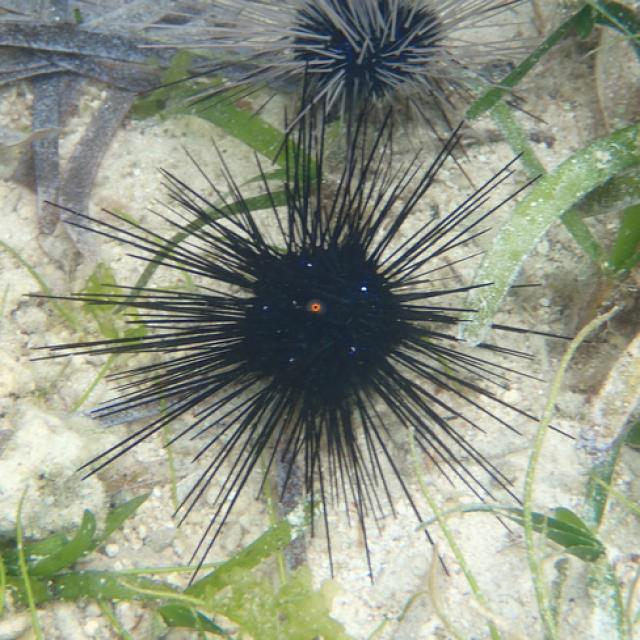Urchin: (17, 105, 578, 576)
